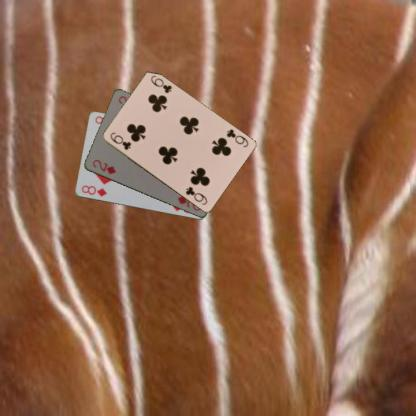2d: (90, 157, 116, 176)
6c: (224, 126, 250, 148), (107, 130, 132, 152)
8d: (79, 183, 108, 198)
